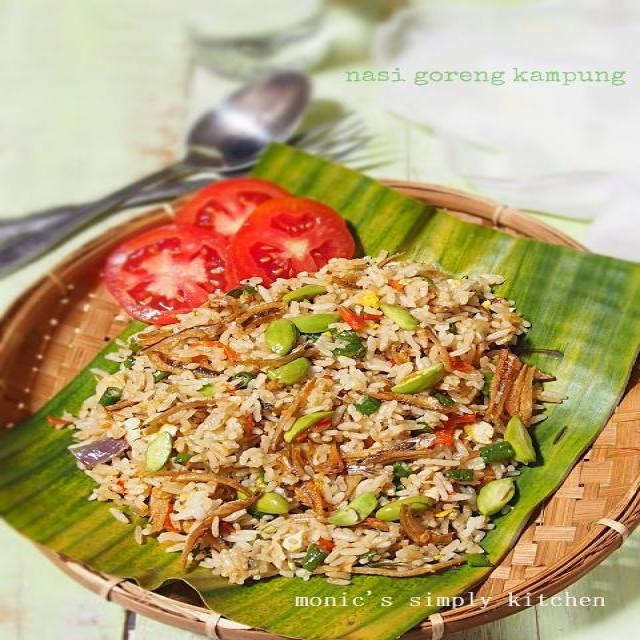Nasi Goreng: (52, 249, 563, 586)
